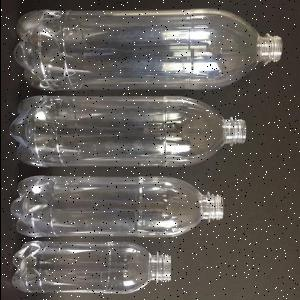Plastic-bottle: (14, 9, 285, 93), (10, 97, 248, 169), (11, 177, 225, 240), (11, 241, 172, 295)
